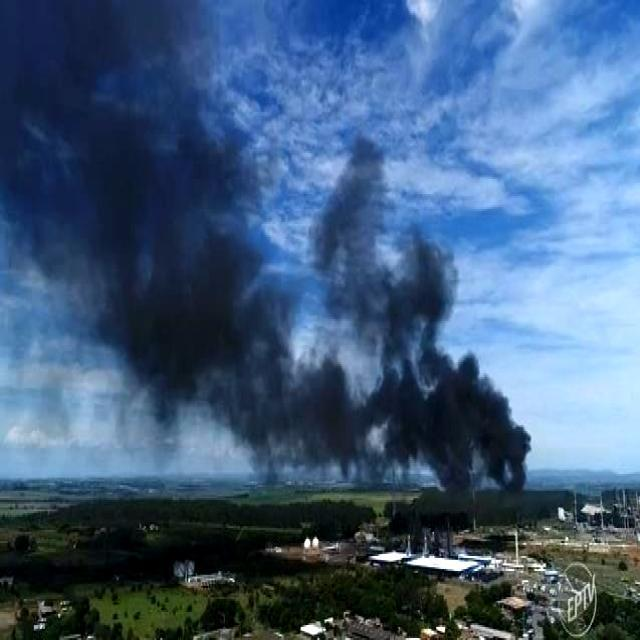Smoke: (0, 103, 516, 509)
